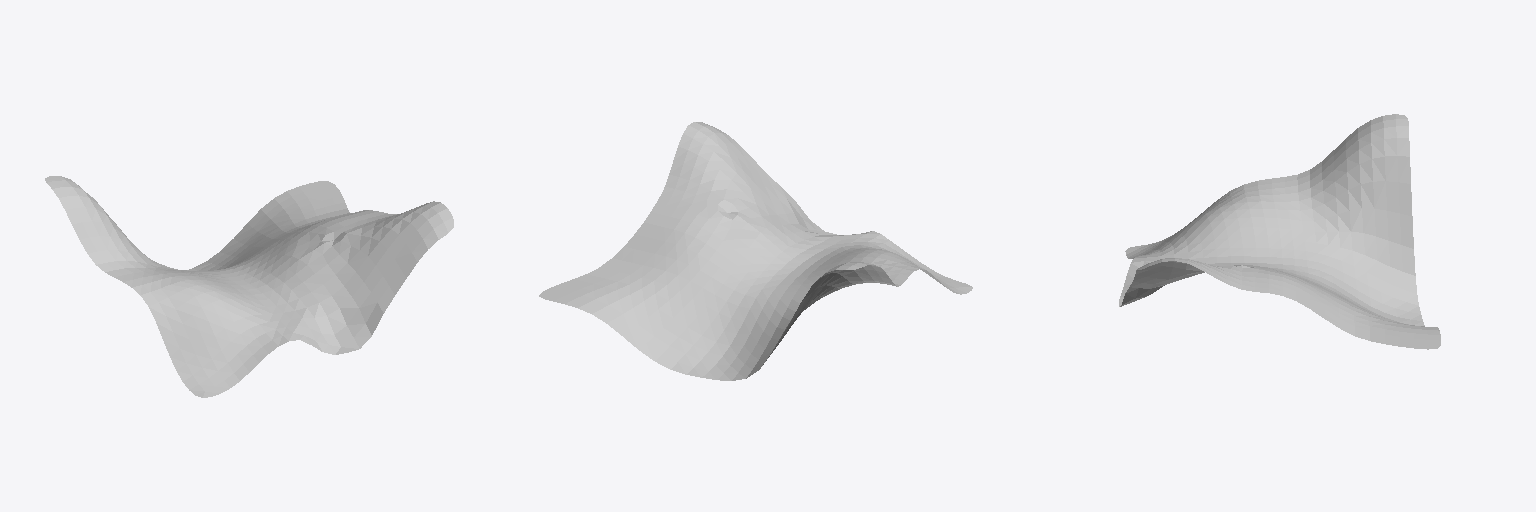
The model's file is Mesh2_Original.obj.
3 views of the same model, side by side, from view 1: azimuth 30°, elevation 25°; view 2: azimuth 150°, elevation 25°; view 3: azimuth 270°, elevation 25° (orthographic).
Visible parts, largest first — view 1: Full_Plane.013; view 2: Full_Plane.013; view 3: Full_Plane.013.
Part boxes in pixels (bbox=[...]): Full_Plane.013: bbox=[45, 176, 453, 397]; Full_Plane.013: bbox=[539, 122, 972, 380]; Full_Plane.013: bbox=[1119, 114, 1440, 349].
Size of the model in its own units: 2.52 by 1.08 by 2.31.